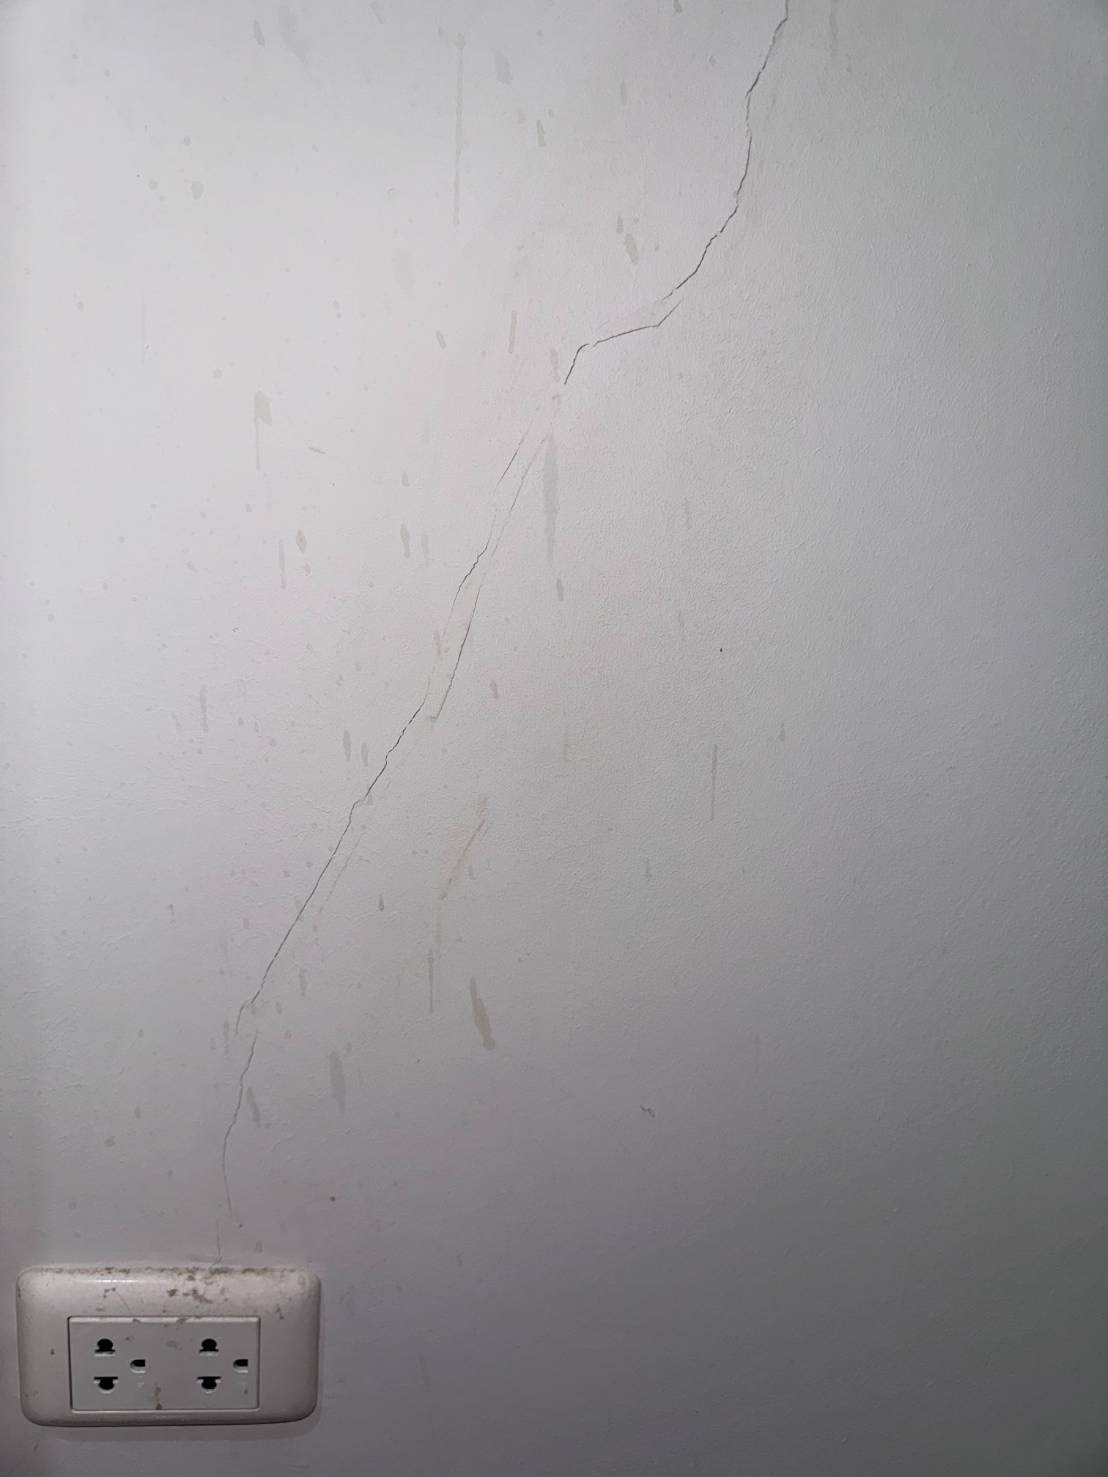Low: (206, 16, 869, 1254)
